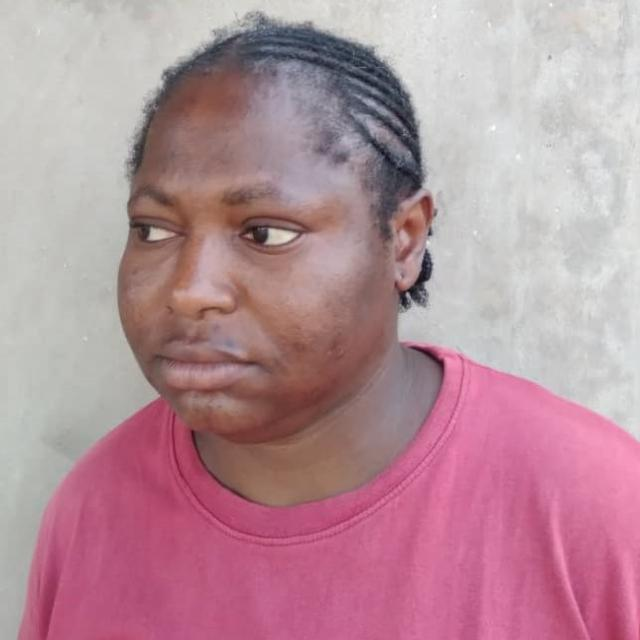sad: (107, 14, 430, 447)
